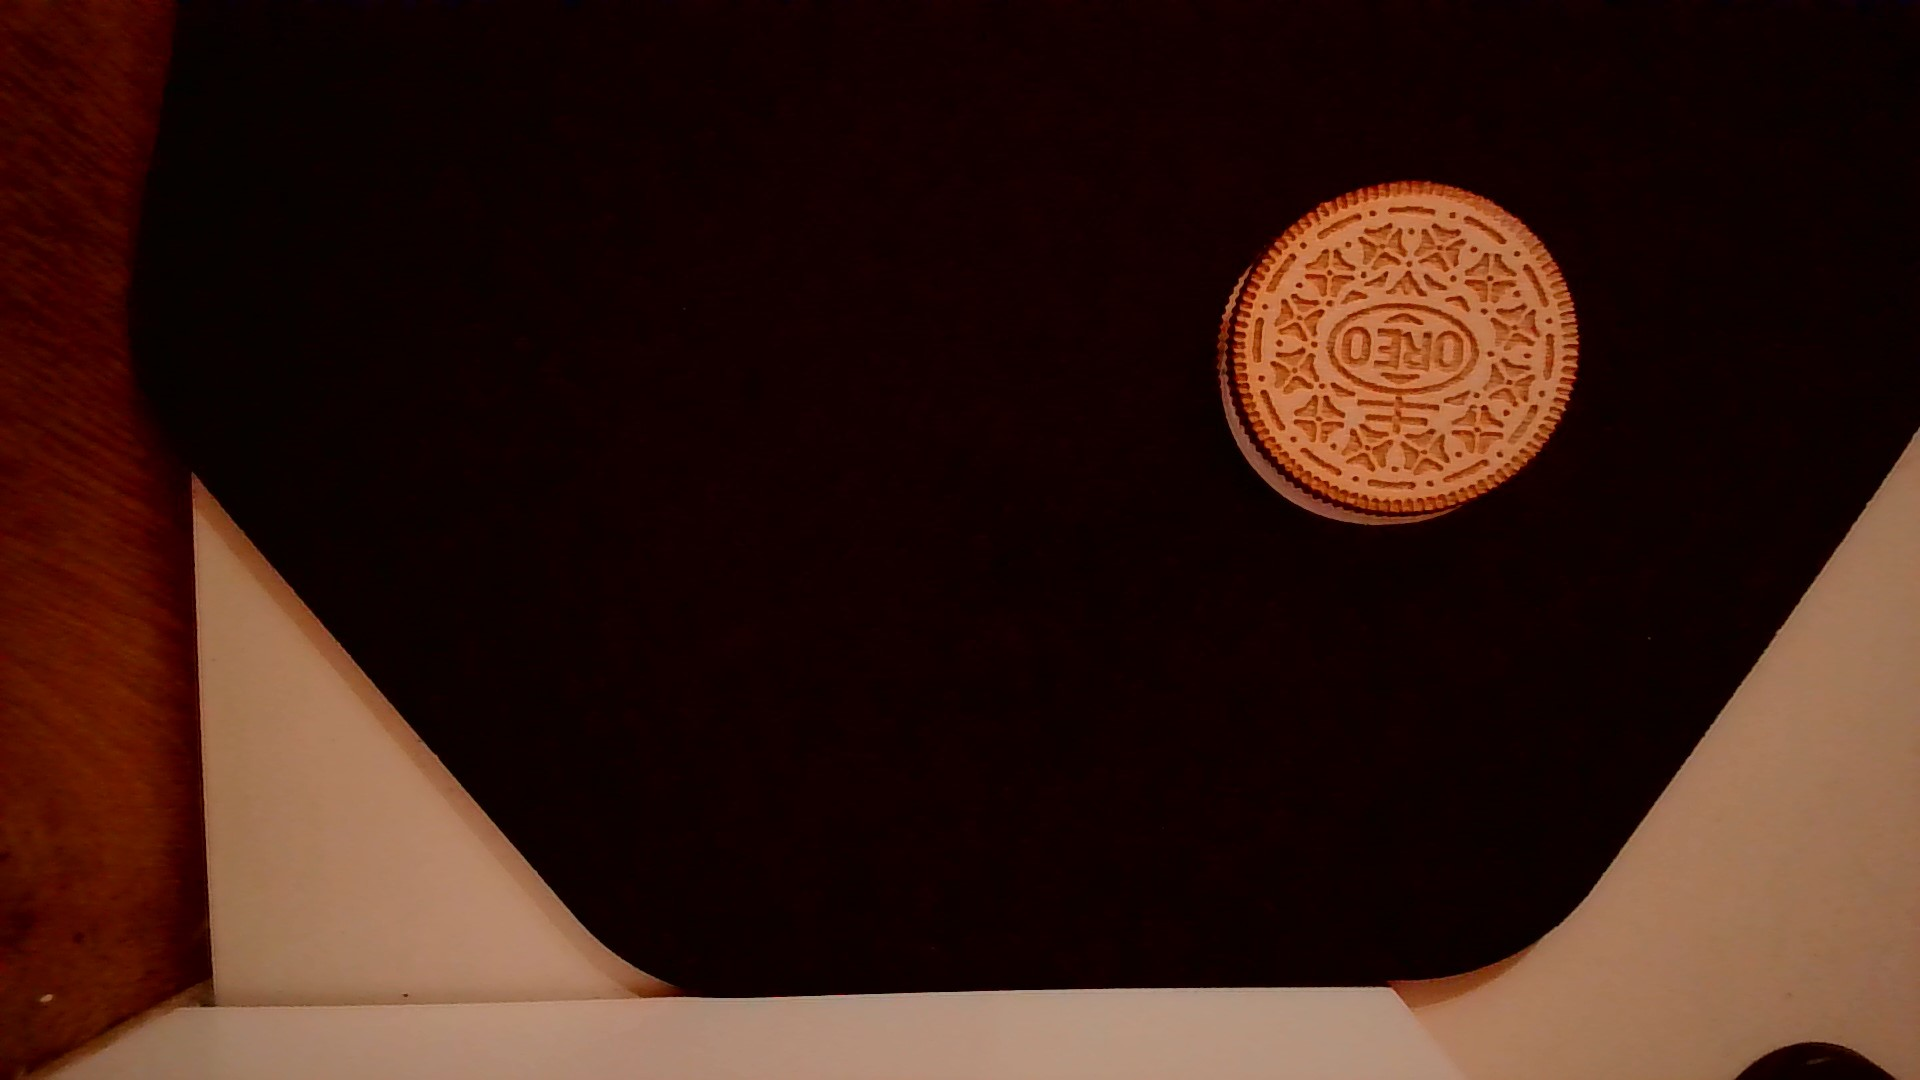Décalé: (1204, 376, 1474, 555)
Oréo: (1215, 174, 1580, 542)
